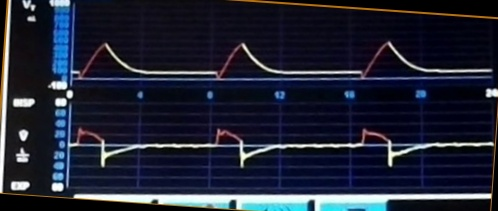Flow: (71, 115, 492, 177)
Leakage Volume: (72, 28, 490, 85)
